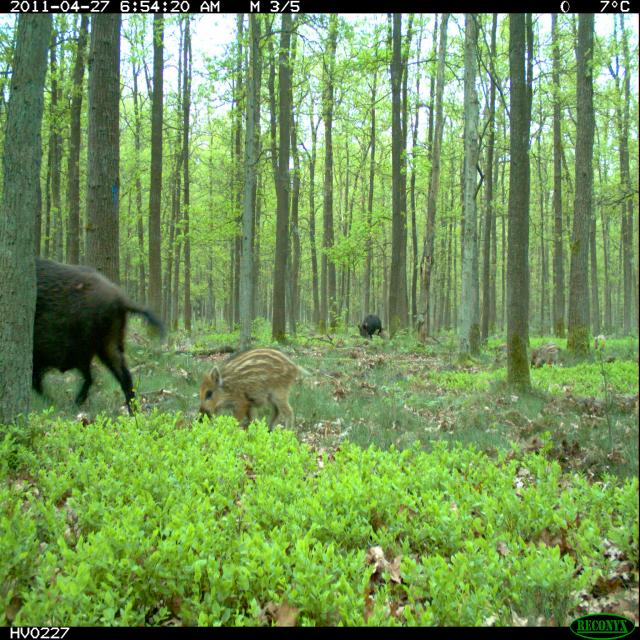boar: (9, 244, 164, 444), (189, 324, 327, 454), (533, 328, 565, 380), (352, 302, 383, 345)
